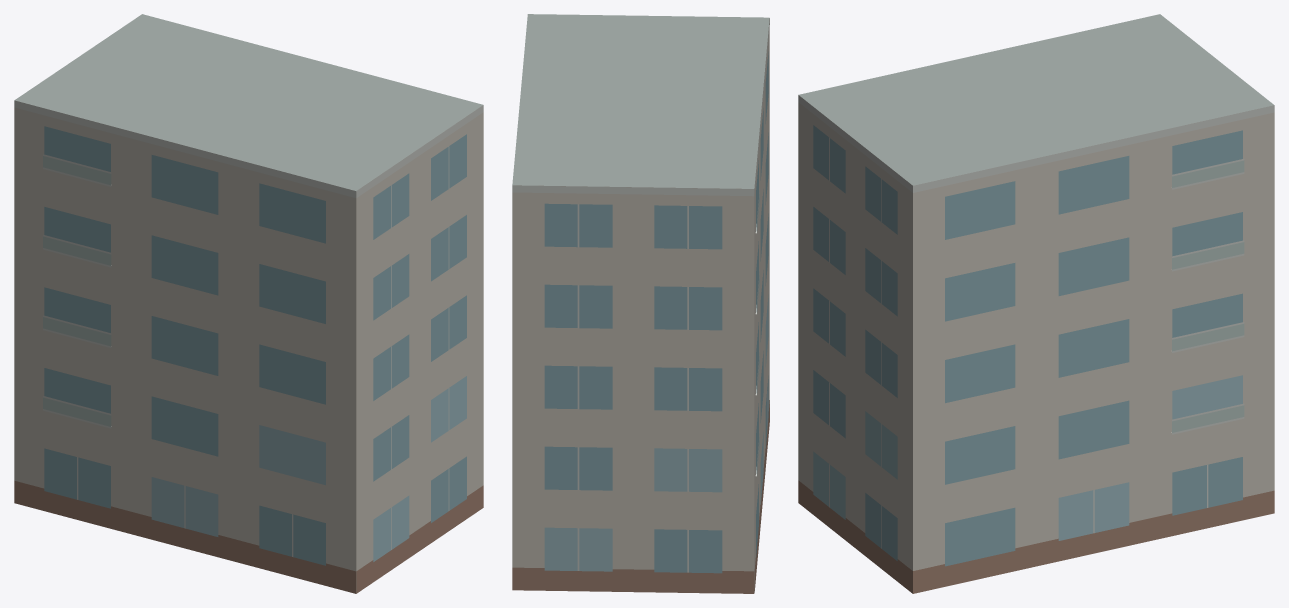
The model's file is survey-upis-32950963.glb.
3 renders of one model, left to right at view 1: azimuth 30°, elevation 25°; view 2: azimuth 150°, elevation 25°; view 3: azimuth 270°, elevation 25°, orthographic.
Visible parts, largest first — view 1: survey-upis-32950963.tmp; view 2: survey-upis-32950963.tmp; view 3: survey-upis-32950963.tmp.
Part boxes in pixels (x1,y1,x2,y2): survey-upis-32950963.tmp: (14, 14, 483, 593); survey-upis-32950963.tmp: (512, 14, 769, 593); survey-upis-32950963.tmp: (798, 14, 1274, 593).
Size of the model in its own units: 12.38 by 13.7 by 14.5.
